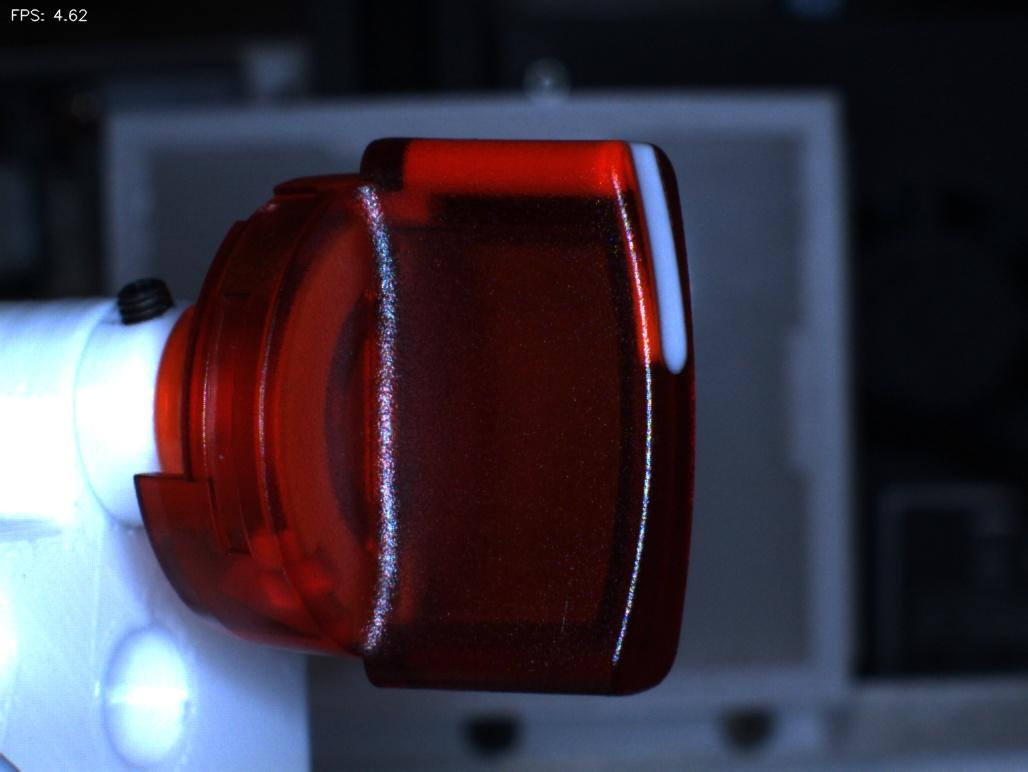Givrage: (530, 547, 617, 672)
